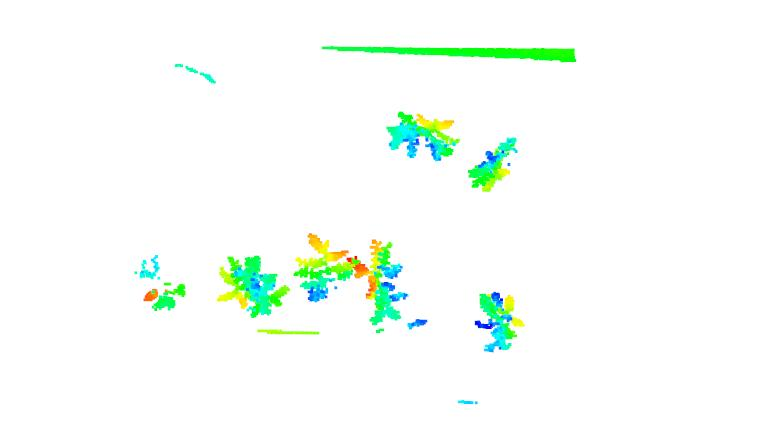chickpea: (347, 239, 410, 327), (215, 254, 291, 319), (294, 233, 356, 304), (387, 110, 461, 160), (473, 290, 525, 356), (463, 136, 518, 192), (135, 257, 188, 311)
